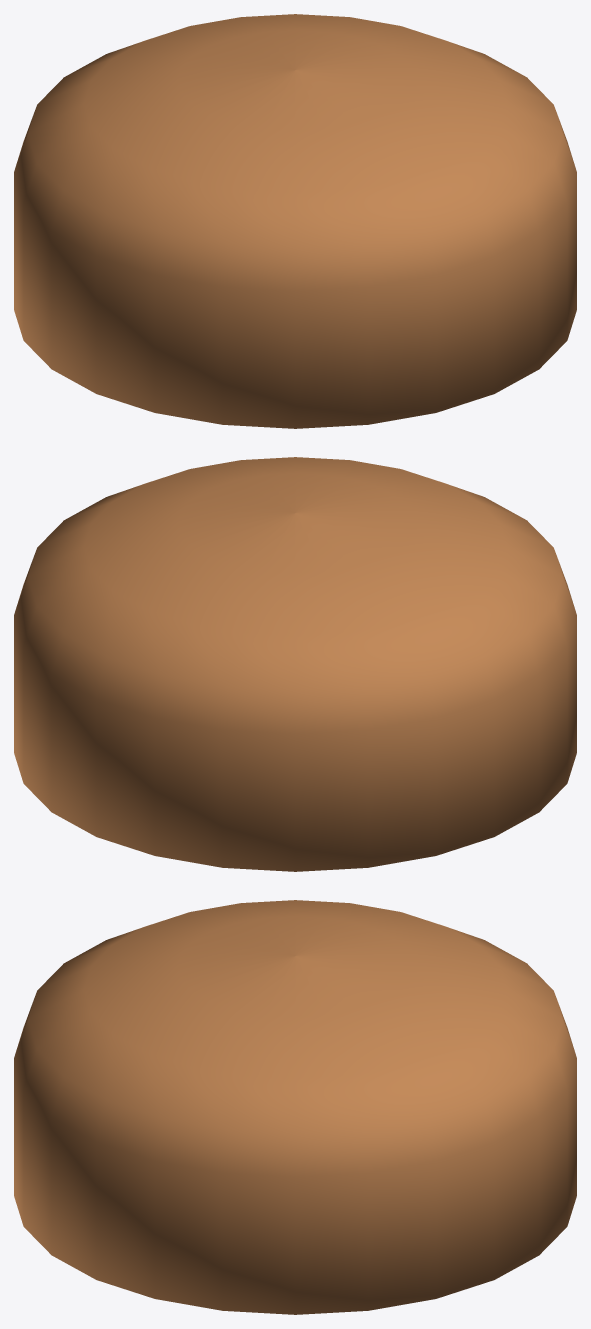
Rendered from revolver-round.glb.
3 renders of one model, top to bottom at view 1: azimuth 30°, elevation 25°; view 2: azimuth 150°, elevation 25°; view 3: azimuth 270°, elevation 25°, orthographic.
Parts seen in each view (by area): view 1: jacket-ogive; view 2: jacket-ogive; view 3: jacket-ogive.
Boxes of the visible parts, box(x1,y1,x2,y2) form: jacket-ogive: box(14, 14, 576, 428); jacket-ogive: box(14, 457, 576, 871); jacket-ogive: box(14, 900, 576, 1314).
Size of the model in its own units: 2 by 1 by 2.
